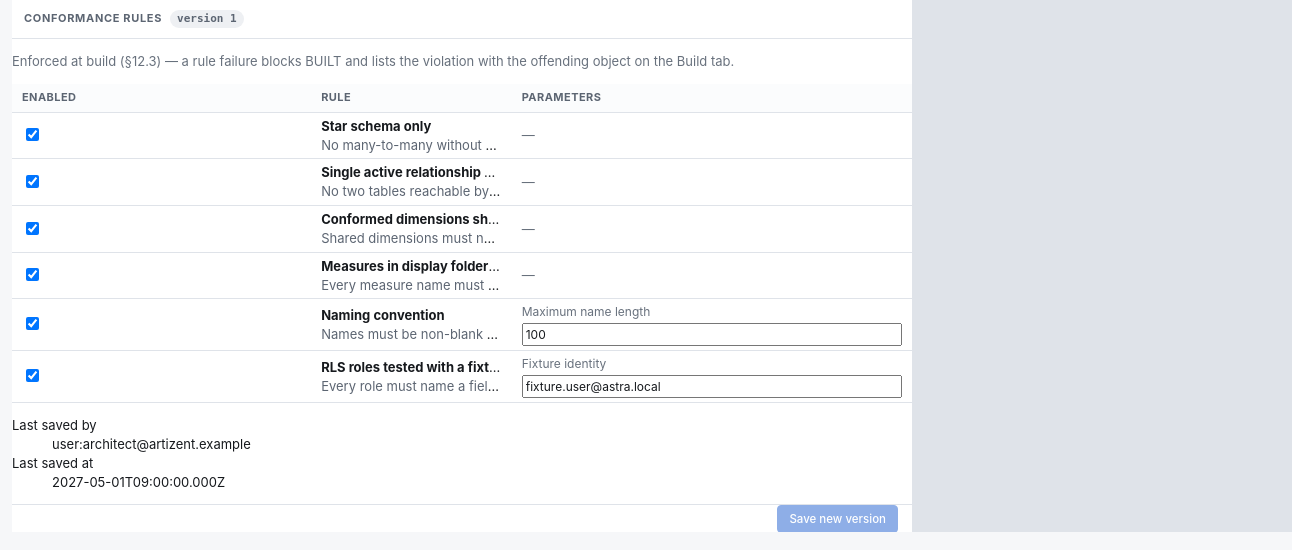
Test: editing and saving › shows the API refusal rather than a generic failure
This screenshot has width=1292, height=550.
Click the checkbox named "Enable Star schema only" at (32, 135), box [26,128,39,141]
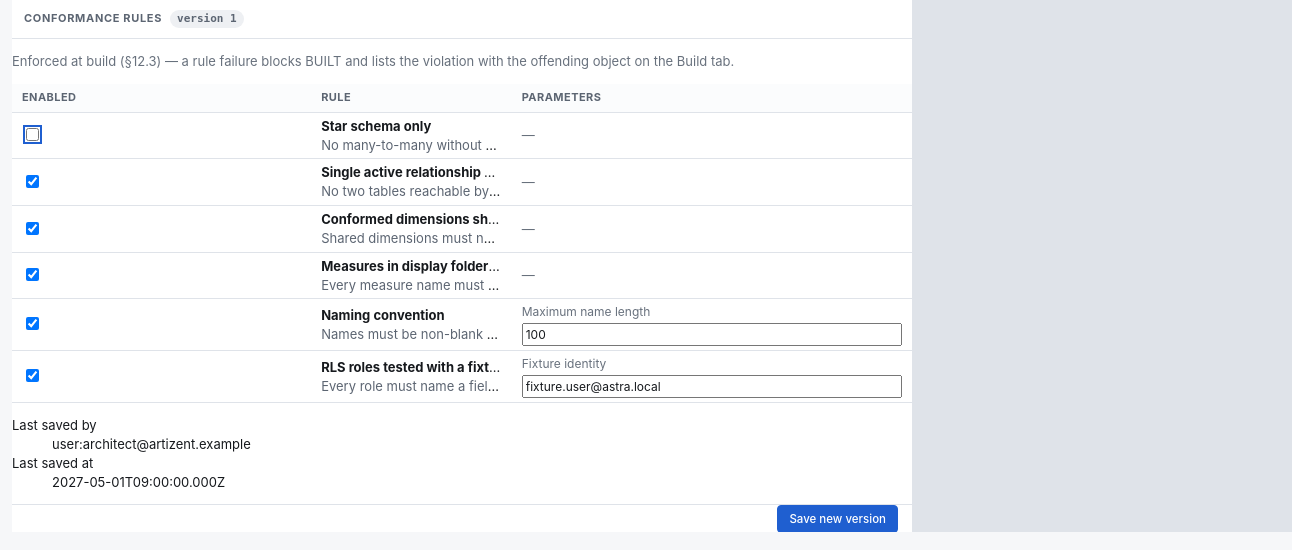
Click the button "Save new version" at (838, 519), box [777,505,898,533]
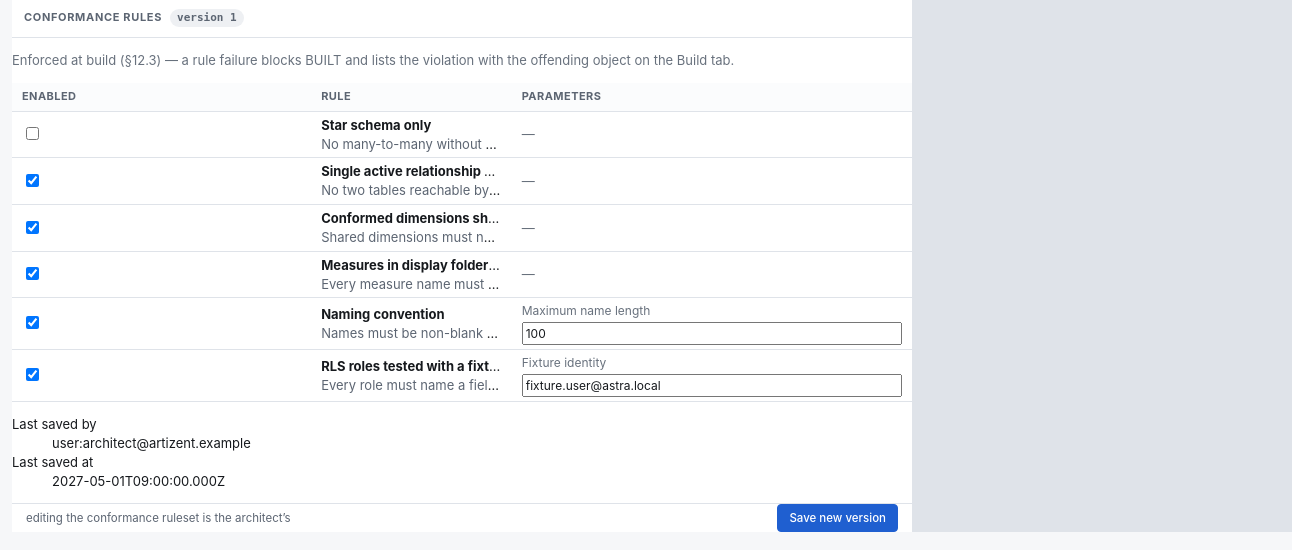
Check: the text "editing the conformance ruleset is the architect’s" is shown, box [26,510,291,526]
